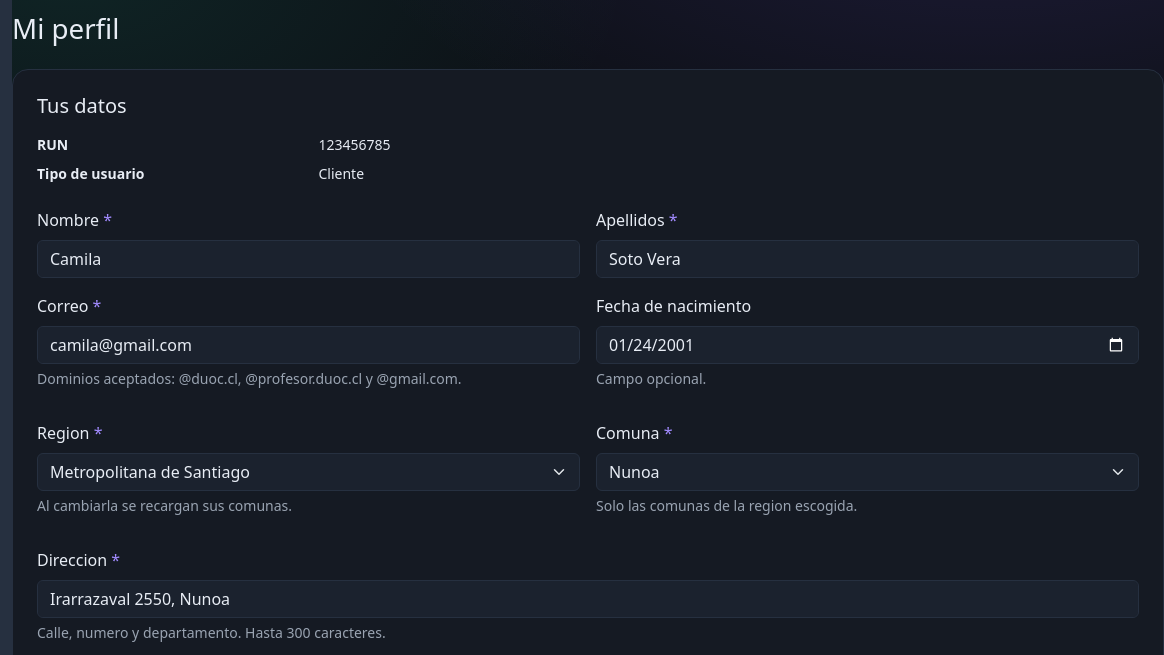
Scenario: Perfil › un correo que usa otra cuenta se rechaza (RF-23 CA2)
Replace the text in the field labelled "Correo *" with "matias@gmail.com" at (308, 345), box [37, 326, 580, 364]
(page scrolled)
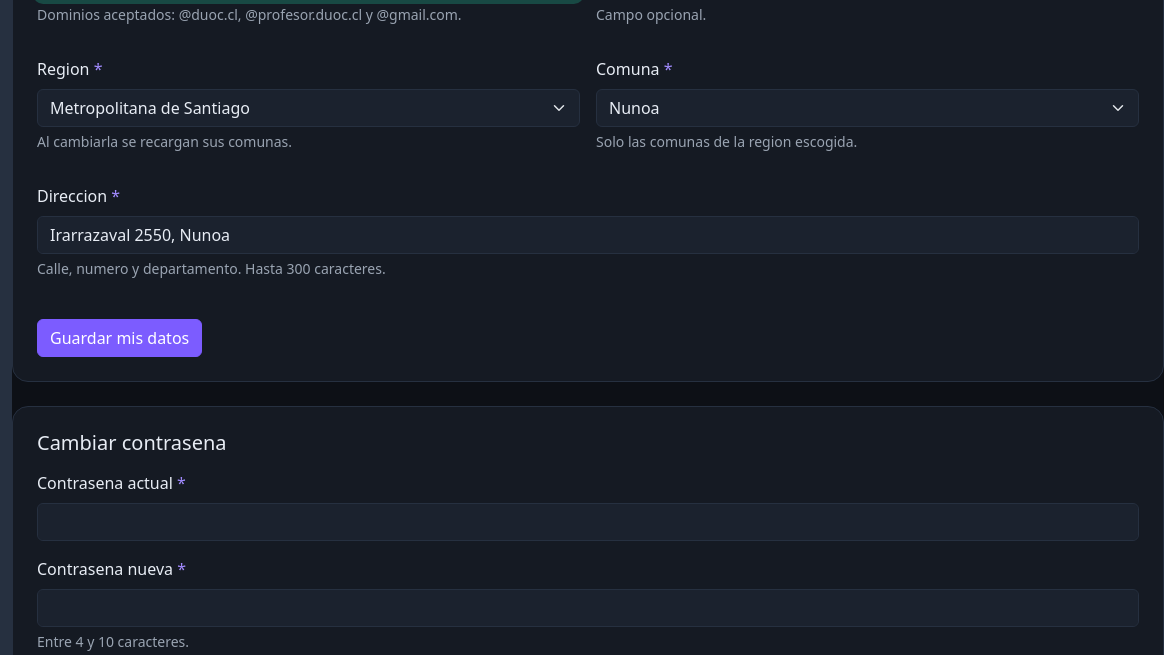
Click the button "Guardar mis datos" at (120, 338), box [37, 319, 202, 357]
(page scrolled)
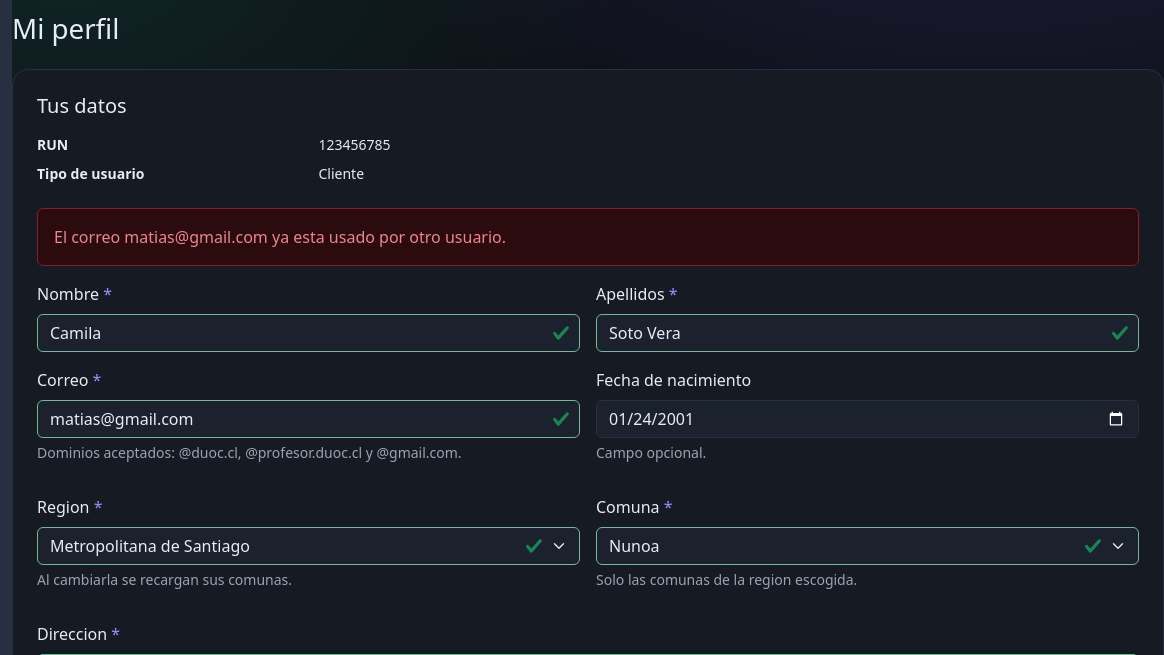
Expected: the message shows "ya esta usado por otro usuario", [54, 226, 506, 248]
